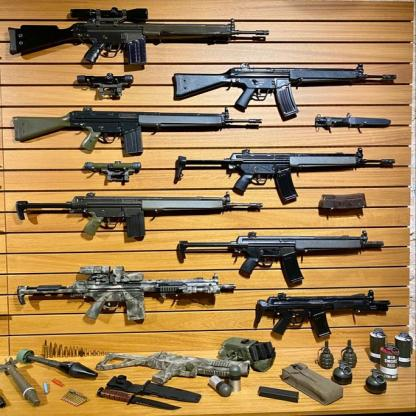Grenade: (394, 330, 414, 367), (381, 344, 400, 382), (363, 367, 388, 395), (370, 326, 388, 362), (332, 359, 355, 387), (316, 337, 335, 369), (339, 337, 358, 368)
Gun: (6, 6, 272, 68), (172, 60, 398, 122), (13, 103, 264, 157), (14, 262, 236, 323), (172, 144, 398, 203), (12, 187, 264, 238), (177, 227, 384, 286), (249, 288, 392, 340), (97, 350, 253, 386)
Knife: (95, 376, 202, 410), (314, 111, 392, 133)
